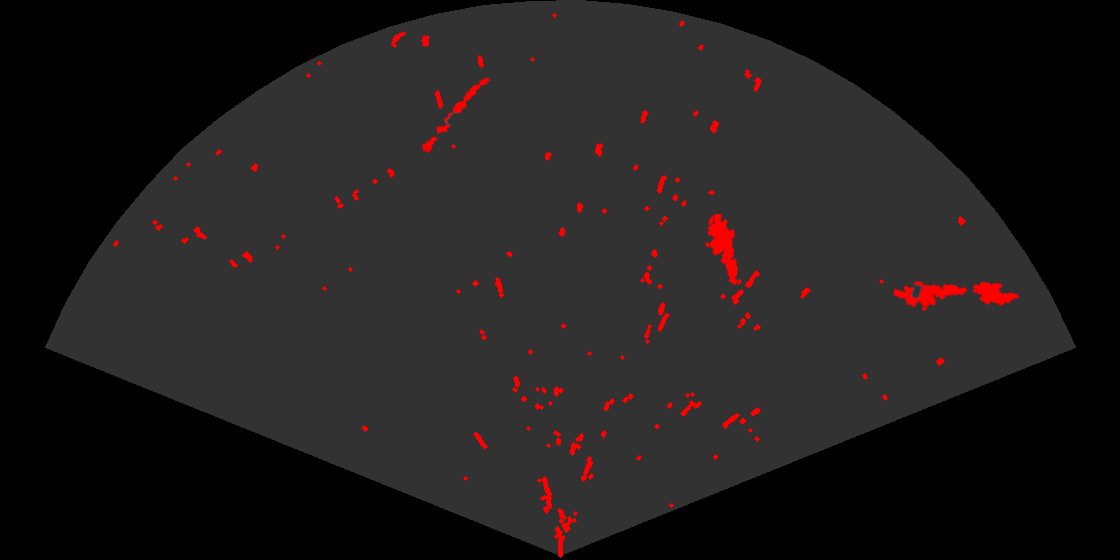AUV: (971, 280, 1021, 307)
chain: (420, 76, 491, 154)
frogman: (703, 214, 739, 287), (894, 279, 969, 313)
